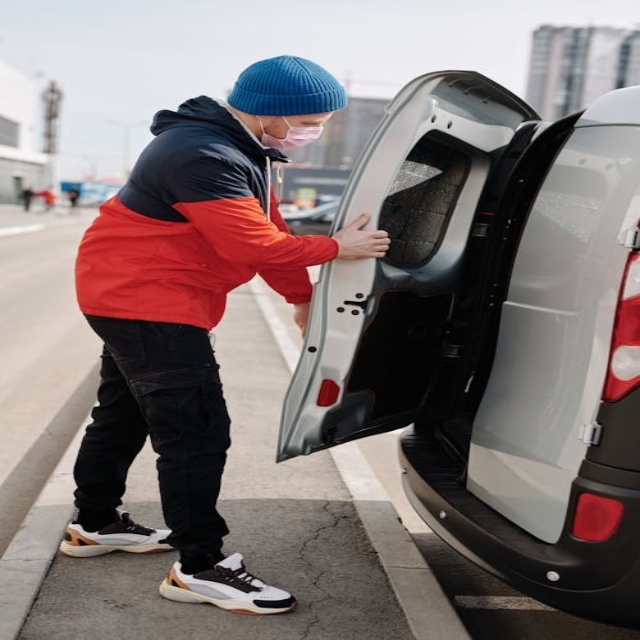Mascara: (259, 111, 326, 153)
Sin_gafas: (289, 113, 333, 129)
Sin_guantes: (334, 207, 396, 265)
